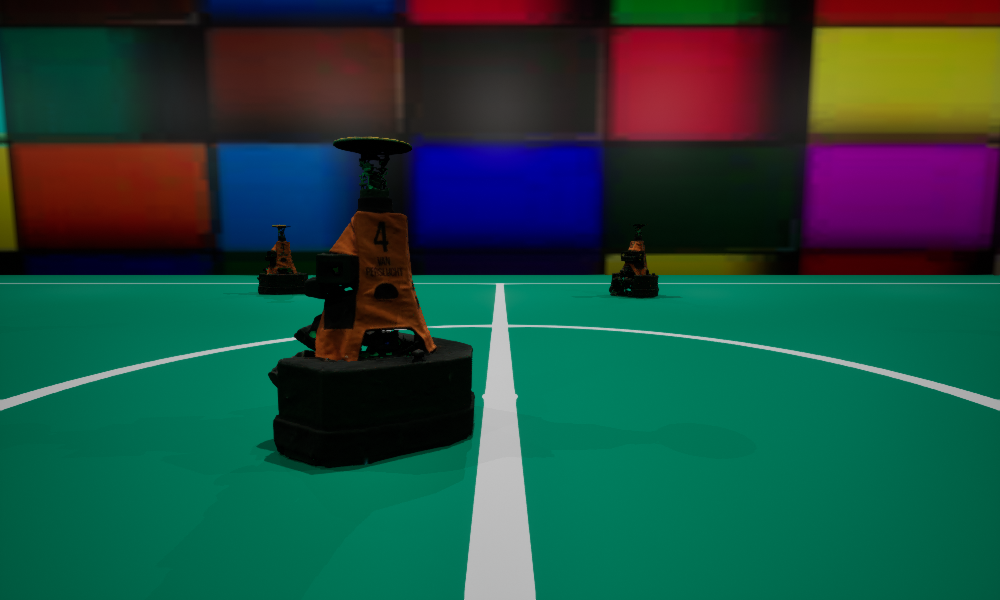o: (268, 137, 474, 466), (609, 224, 658, 297), (257, 225, 307, 294)
